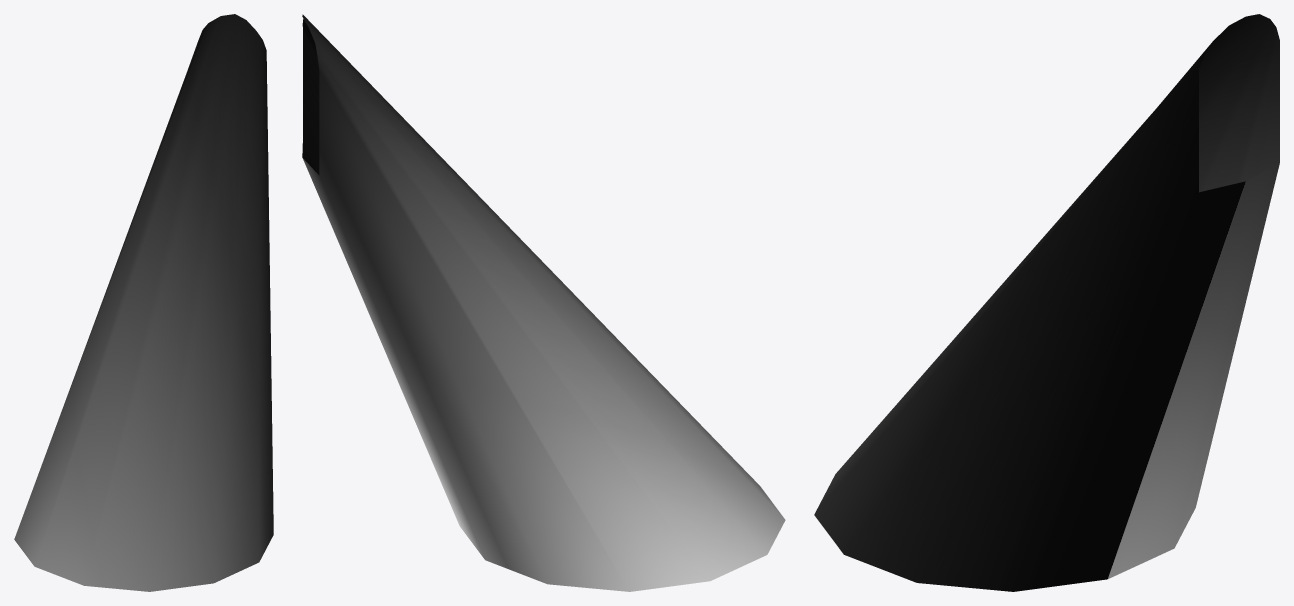
Rendered from Ventana 1.fbx.
The picture shows the model from 3 angles, left to right: view 1: azimuth 30°, elevation 25°; view 2: azimuth 150°, elevation 25°; view 3: azimuth 270°, elevation 25°; orthographic projection. The views are drawn at different scales.
Visible parts, largest first — view 1: Ventana_luz; view 2: Ventana_luz; view 3: Ventana_luz.
Part boxes in pixels (box(x1,y1,x2,y2)): Ventana_luz: box(14, 14, 273, 591); Ventana_luz: box(302, 14, 785, 591); Ventana_luz: box(814, 14, 1279, 591).
Size of the model in its own units: 5.71 by 7.64 by 5.21.
